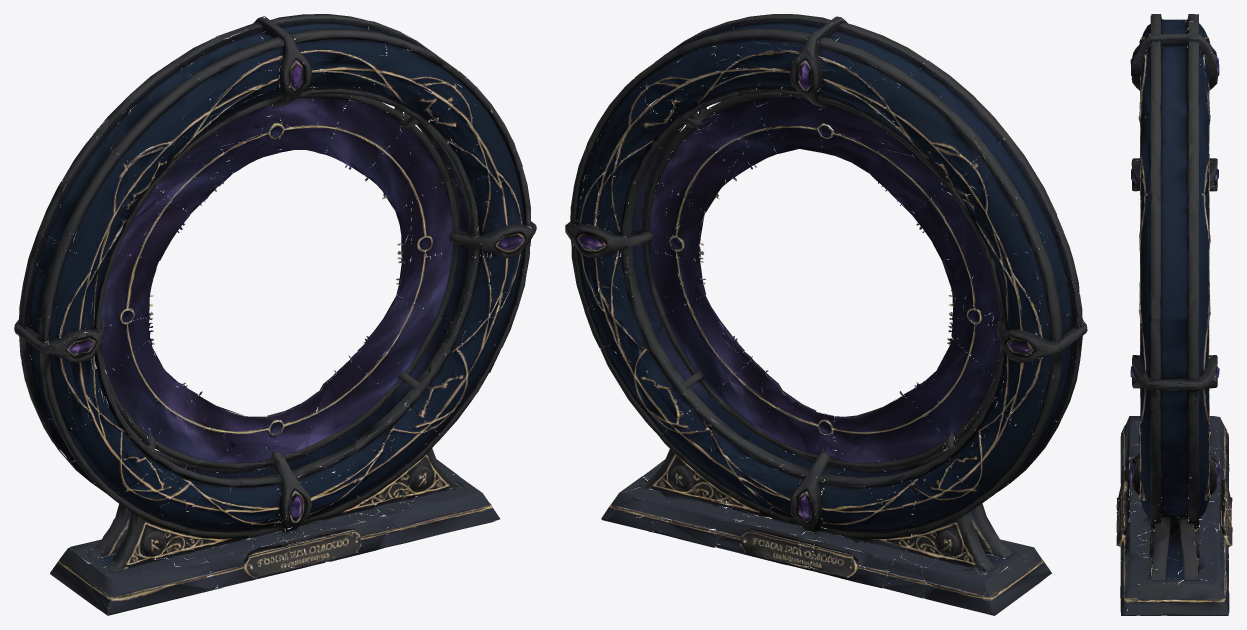
Rendered from portal-del-oraculo.glb.
3 views of the same model, side by side, from view 1: azimuth 30°, elevation 25°; view 2: azimuth 150°, elevation 25°; view 3: azimuth 270°, elevation 25° (orthographic). The views are drawn at different scales.
Parts seen in each view (by area): view 1: tripo_node_bf71befe-63ad-4b3d-a3cb-79a6344812bc; view 2: tripo_node_bf71befe-63ad-4b3d-a3cb-79a6344812bc; view 3: tripo_node_bf71befe-63ad-4b3d-a3cb-79a6344812bc.
Boxes of the visible parts, x1,y1,x2,y2 form: tripo_node_bf71befe-63ad-4b3d-a3cb-79a6344812bc: [14, 14, 536, 615]; tripo_node_bf71befe-63ad-4b3d-a3cb-79a6344812bc: [565, 14, 1087, 615]; tripo_node_bf71befe-63ad-4b3d-a3cb-79a6344812bc: [1116, 14, 1232, 615].
Bounding box in the file's own units: 0.9772 × 0.9813 × 0.2096.
Materials: 1 (1 with a texture image).
